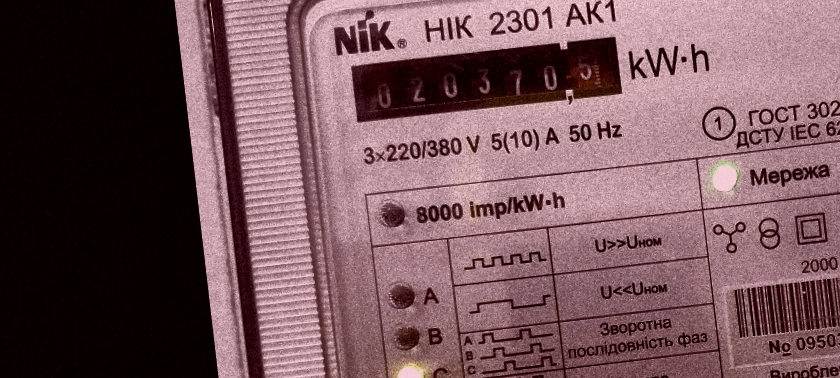0: (540, 61, 561, 93), (373, 79, 394, 109), (441, 69, 459, 99)
2: (407, 73, 428, 106)
3: (473, 64, 493, 96)
5: (574, 50, 596, 83)
7: (507, 66, 525, 98)
screen: (343, 27, 632, 135)
